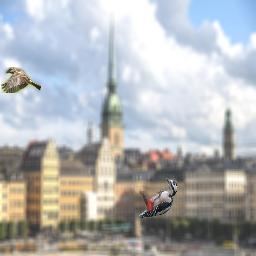Sparrow: (1, 67, 41, 93)
Woodpecker: (139, 178, 177, 218)
